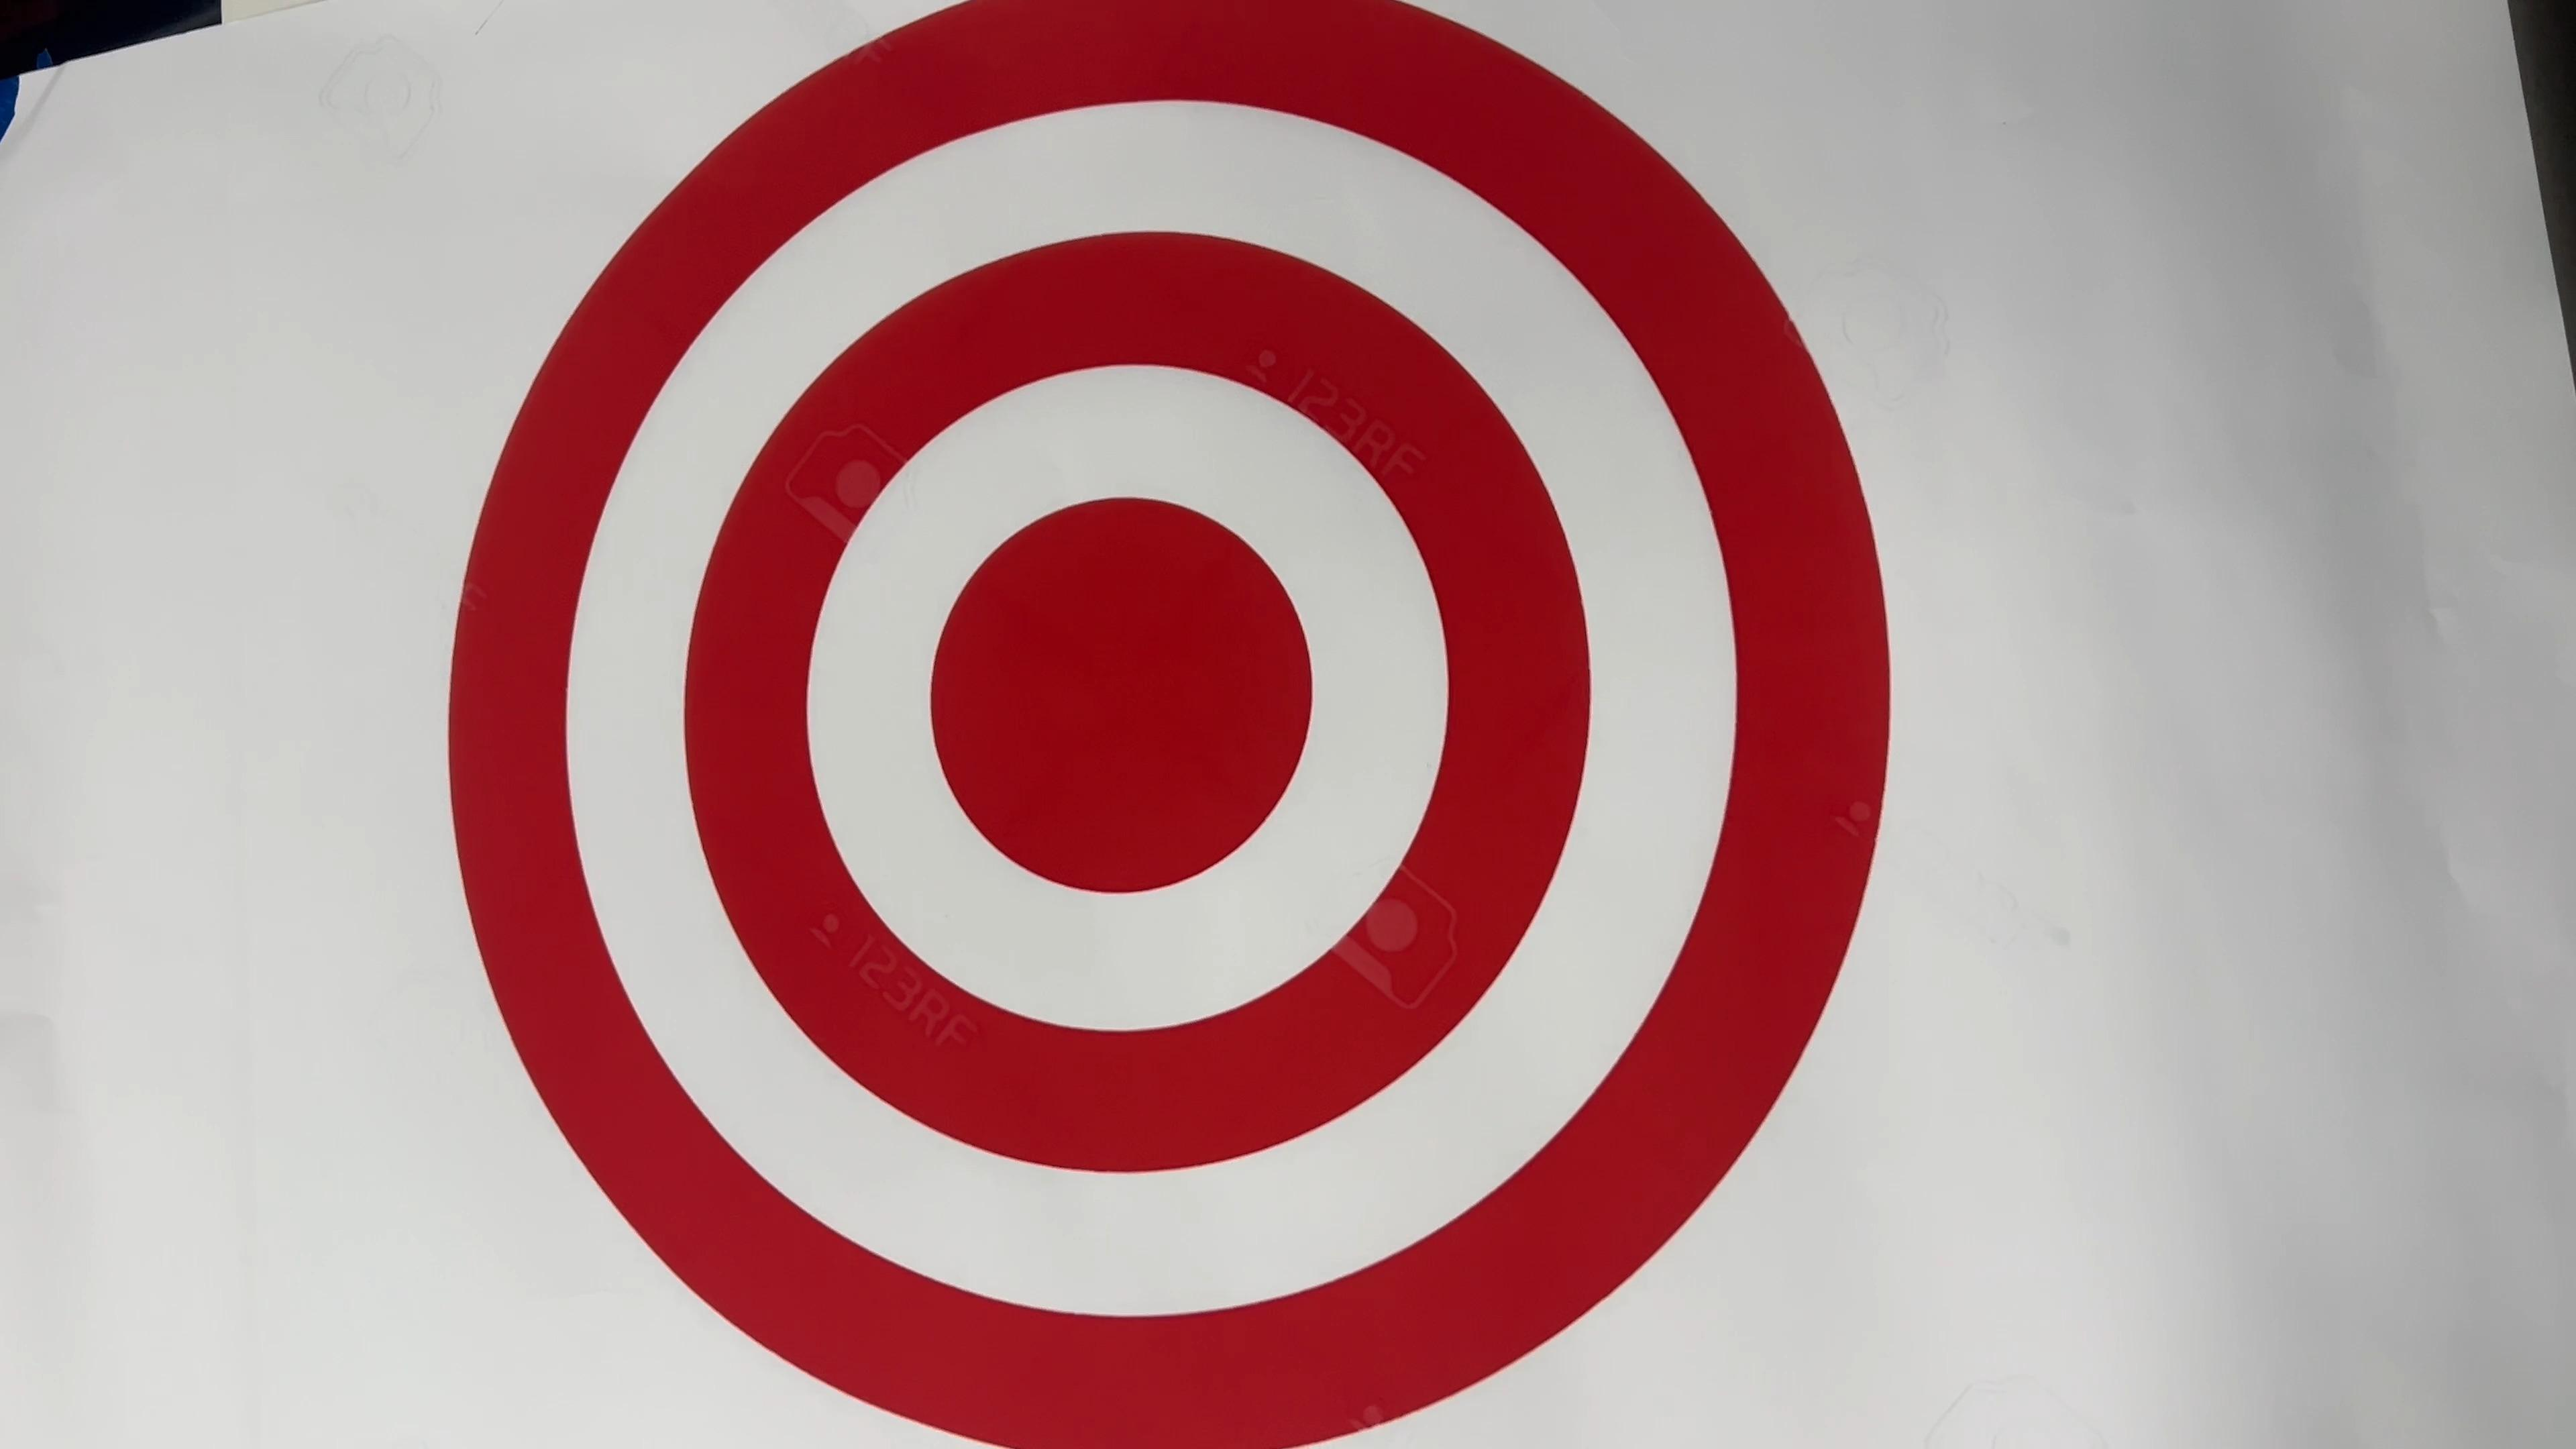target_red: (329, 0, 1930, 1449)
